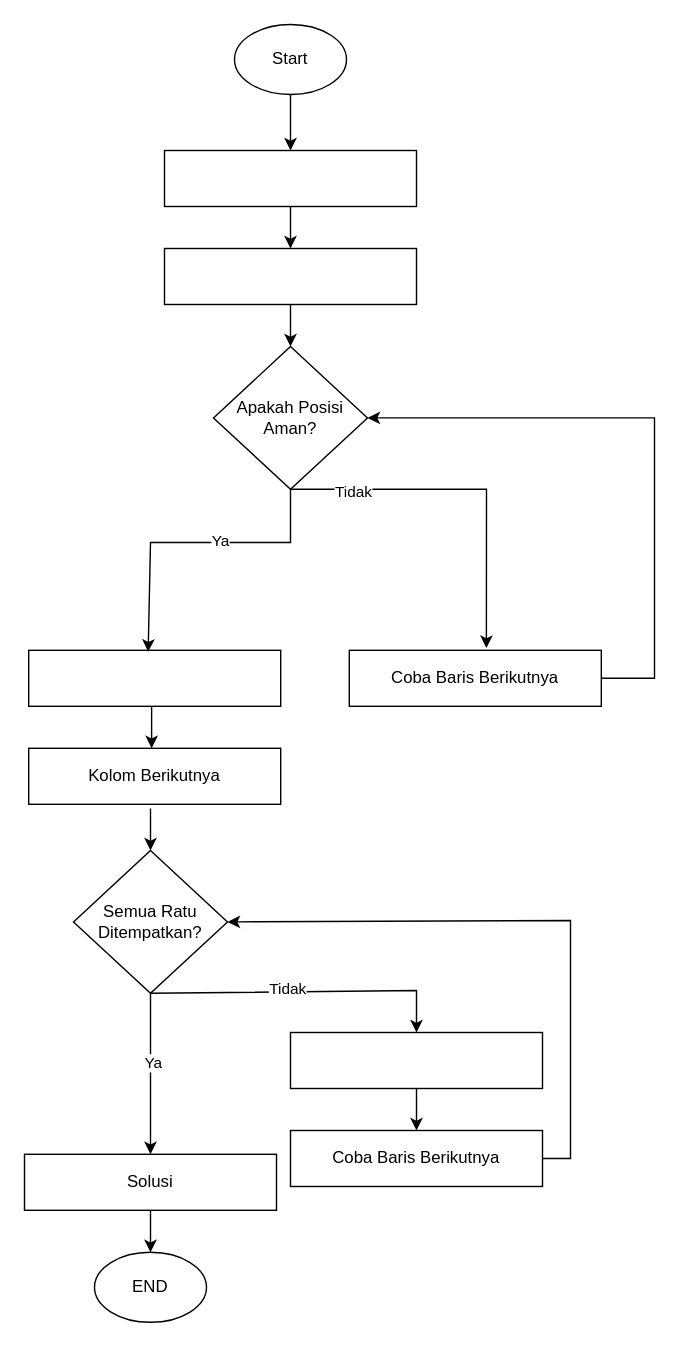
Some shapes in this 690 by 1347 pixel diagram are drawn without their labels. The shapes that lost their labels are listed below. From the top down, each one's centre as x and y in pixels, then its label:
At [289,177]: "Buat Papan NxN".
At [289,275]: "Tempatkan Ratu di Kolom dan Baris".
At [154,677]: "Letakkan Ratu".
At [415,1059]: "Backtrack".
